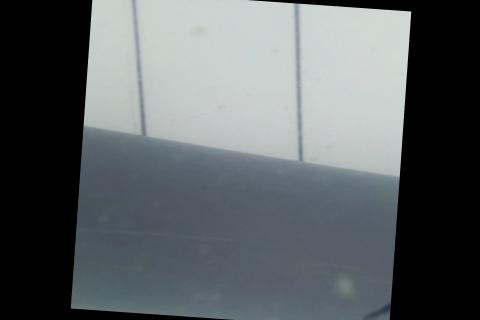keretakan: (343, 276, 392, 320)
